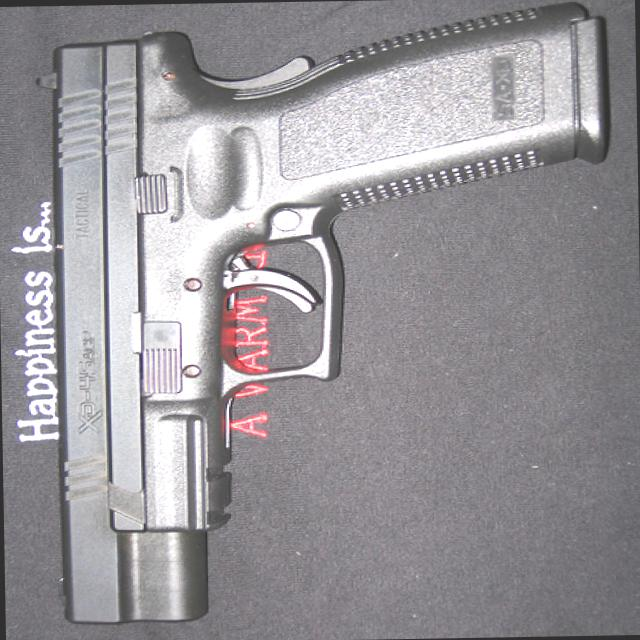handgun: (31, 2, 616, 626)
